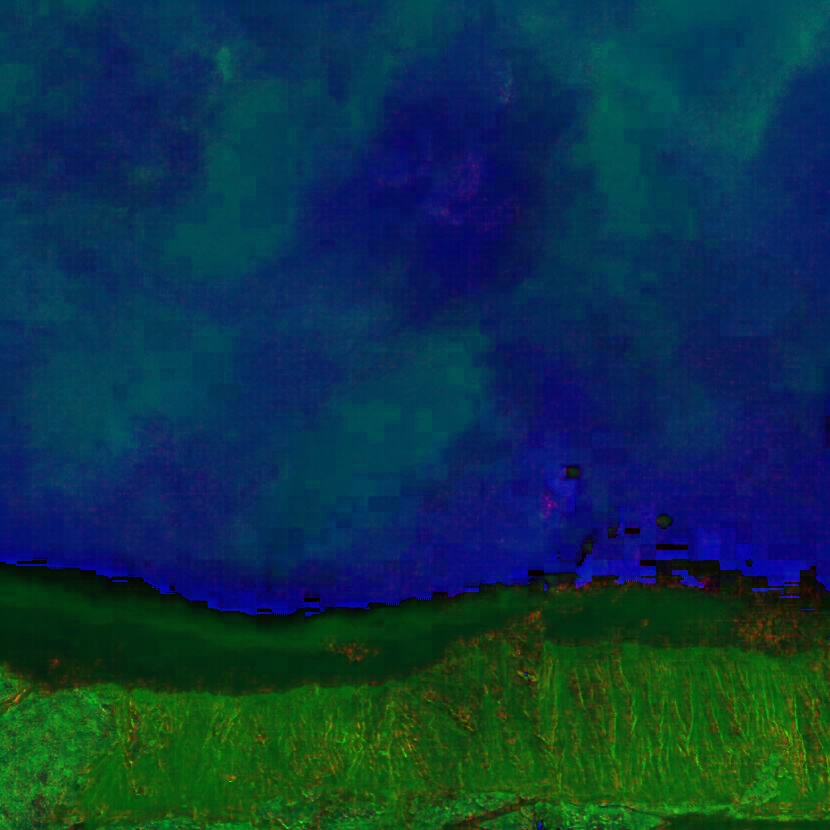rip_current: (211, 280, 540, 569)
